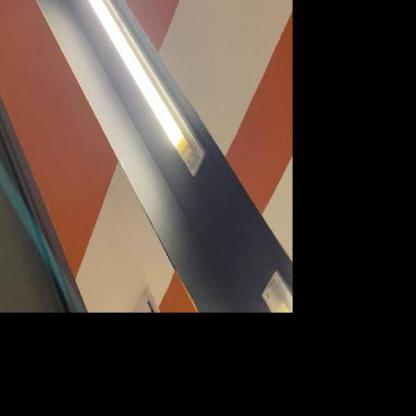light_on: (51, 0, 212, 179), (248, 248, 292, 312)
